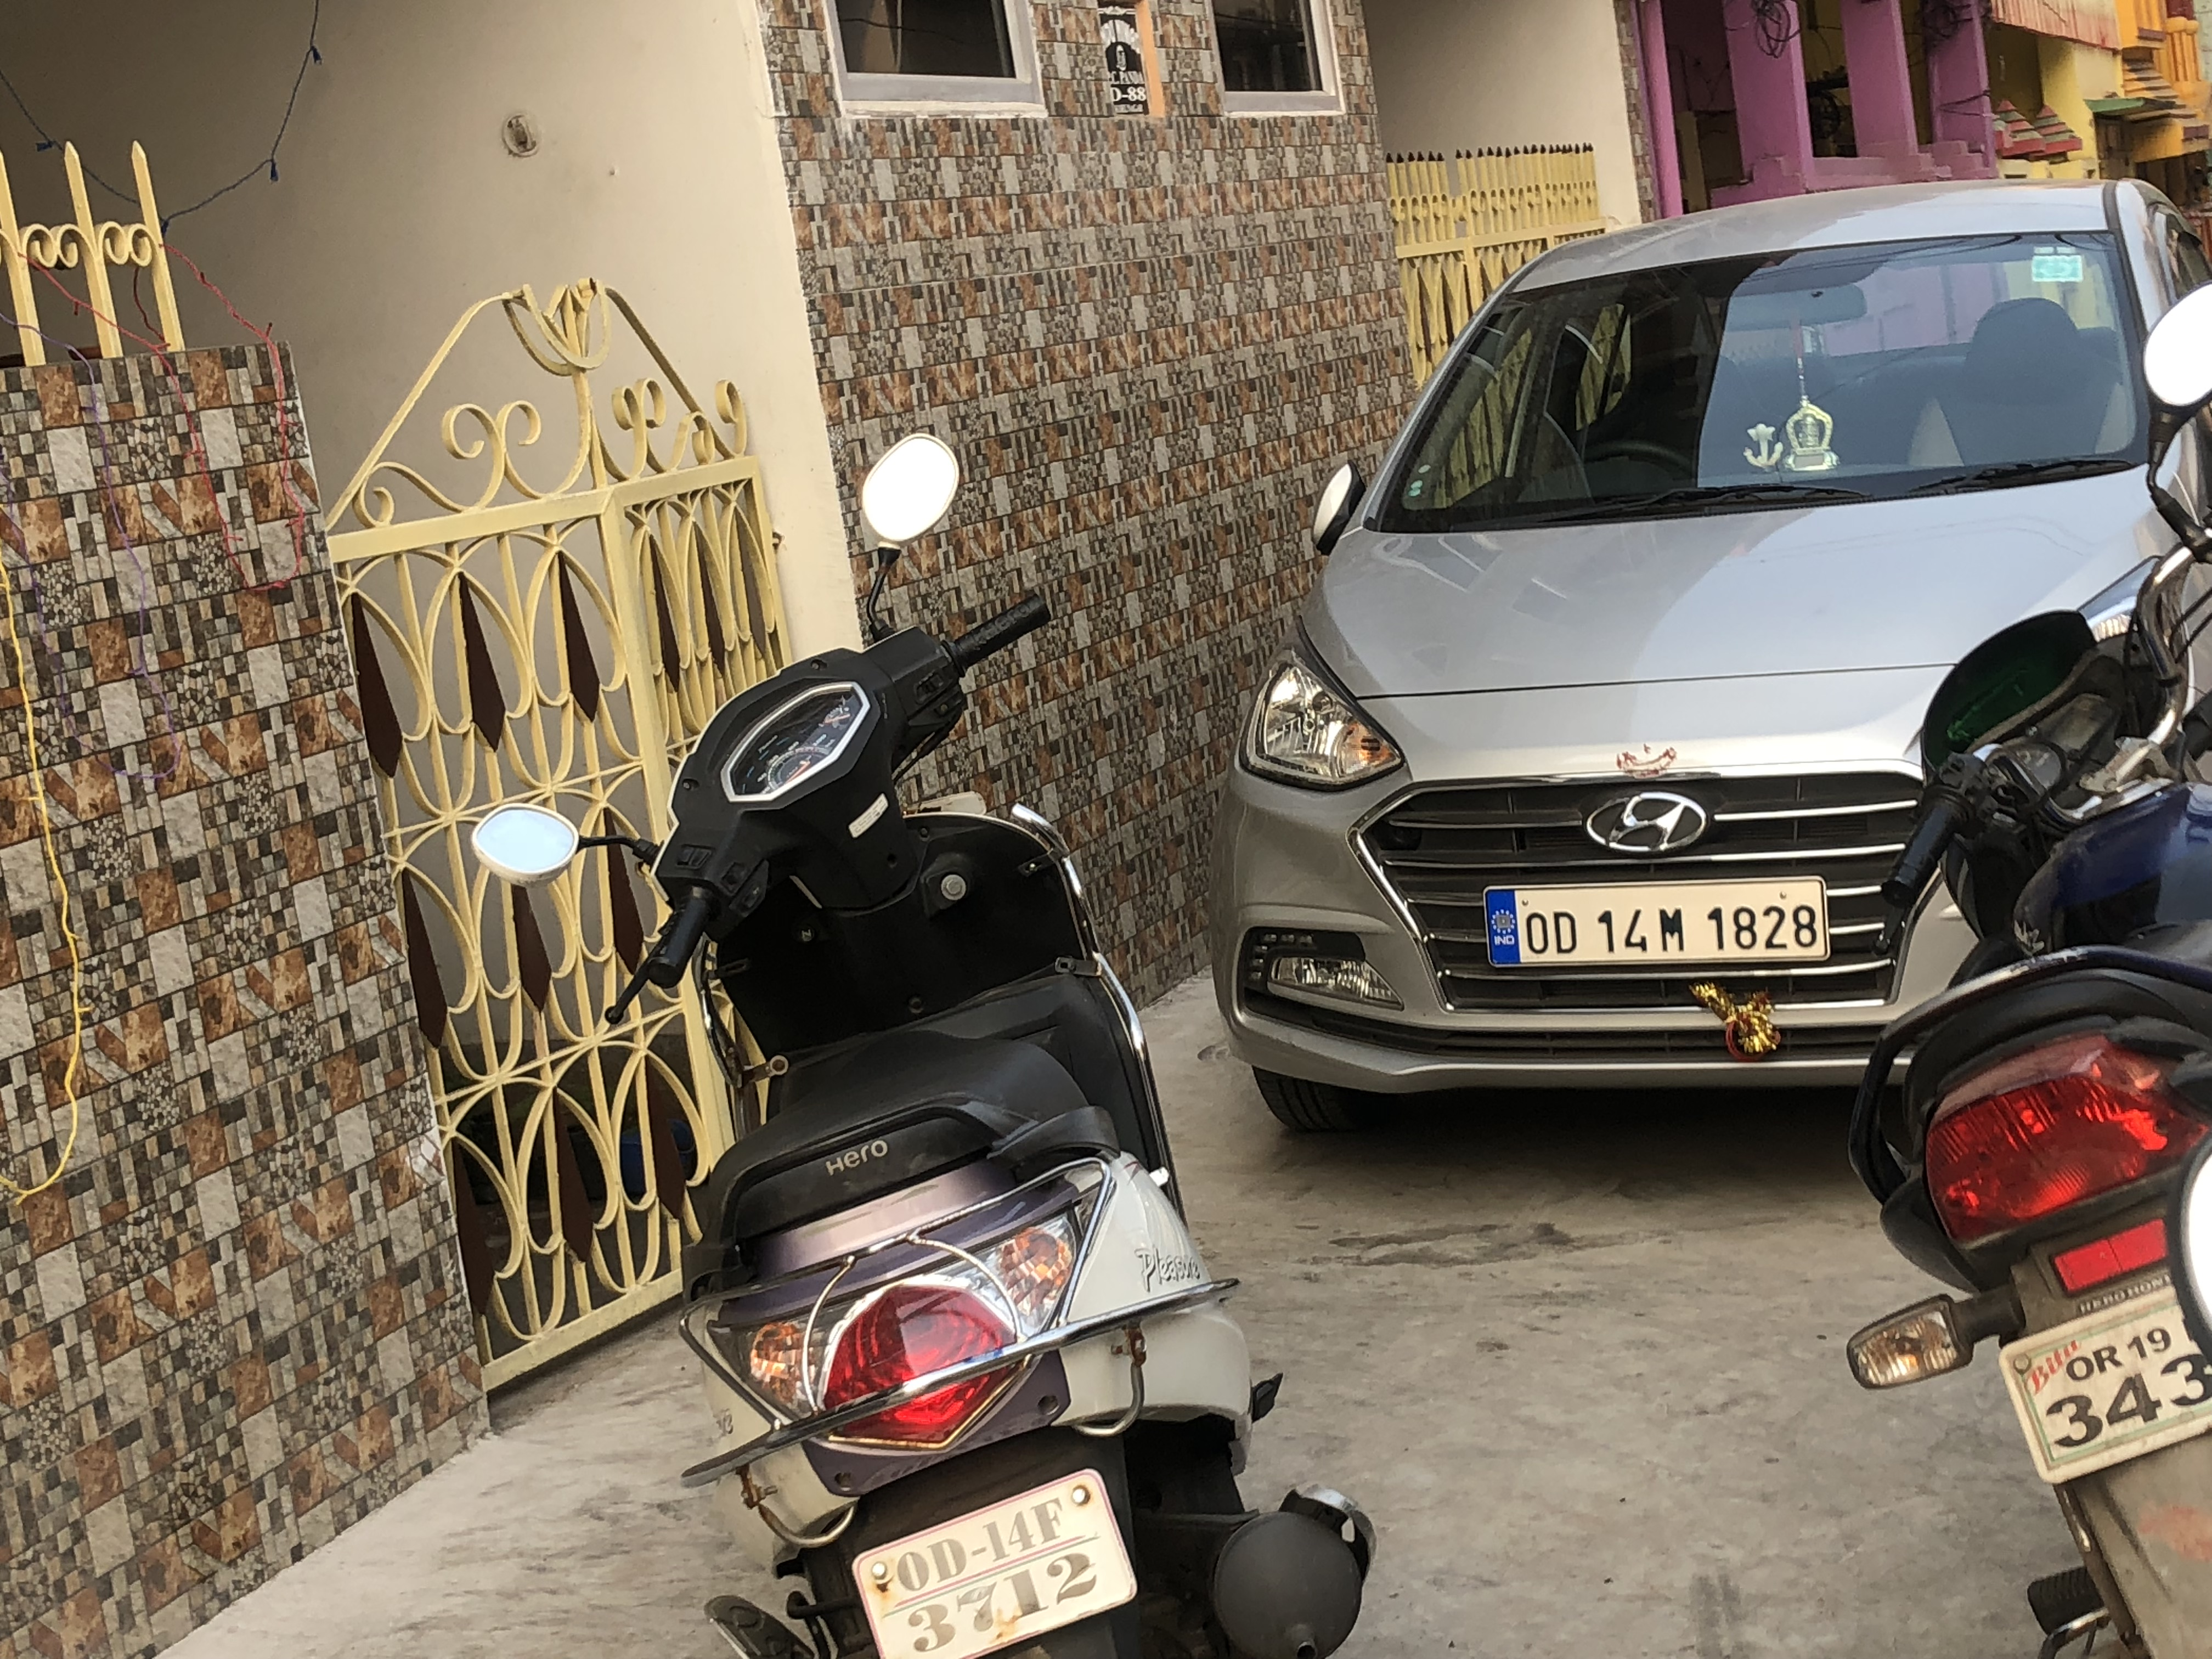licenseplate: (1474, 872, 1848, 985)
